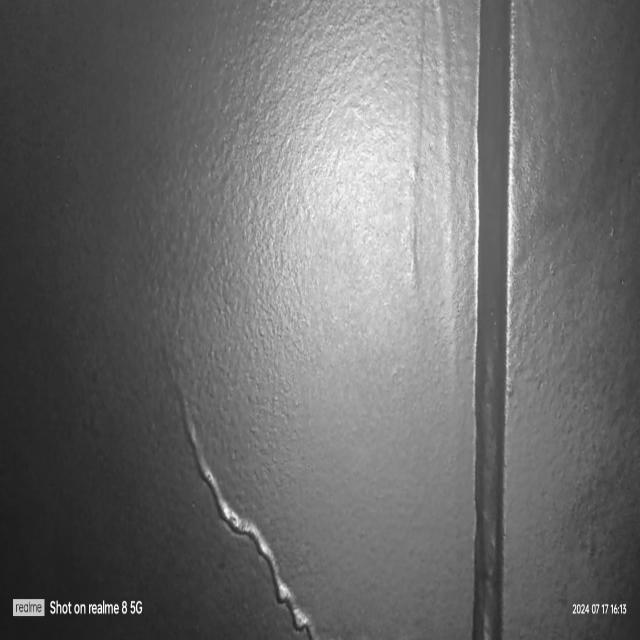paint drips: (155, 317, 330, 640), (394, 0, 468, 387)
